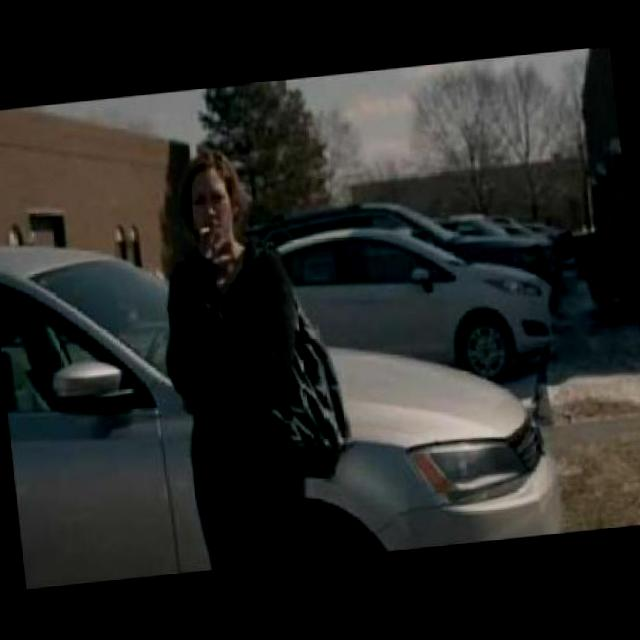cigarette: (198, 226, 216, 240)
